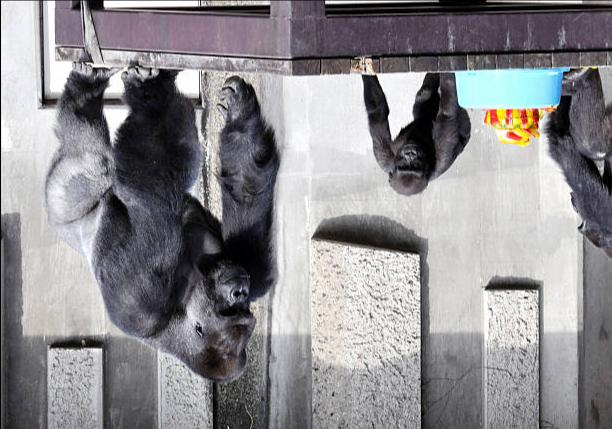gorille_Autres: (31, 67, 290, 374), (348, 73, 466, 206), (549, 62, 612, 263)
